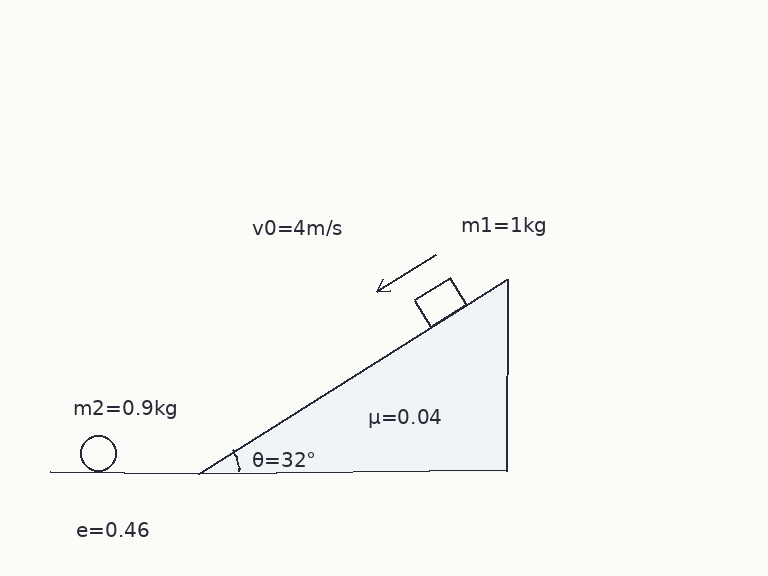ball: (78, 433, 118, 473)
block: (412, 276, 468, 328)
ramp: (197, 277, 508, 473)
